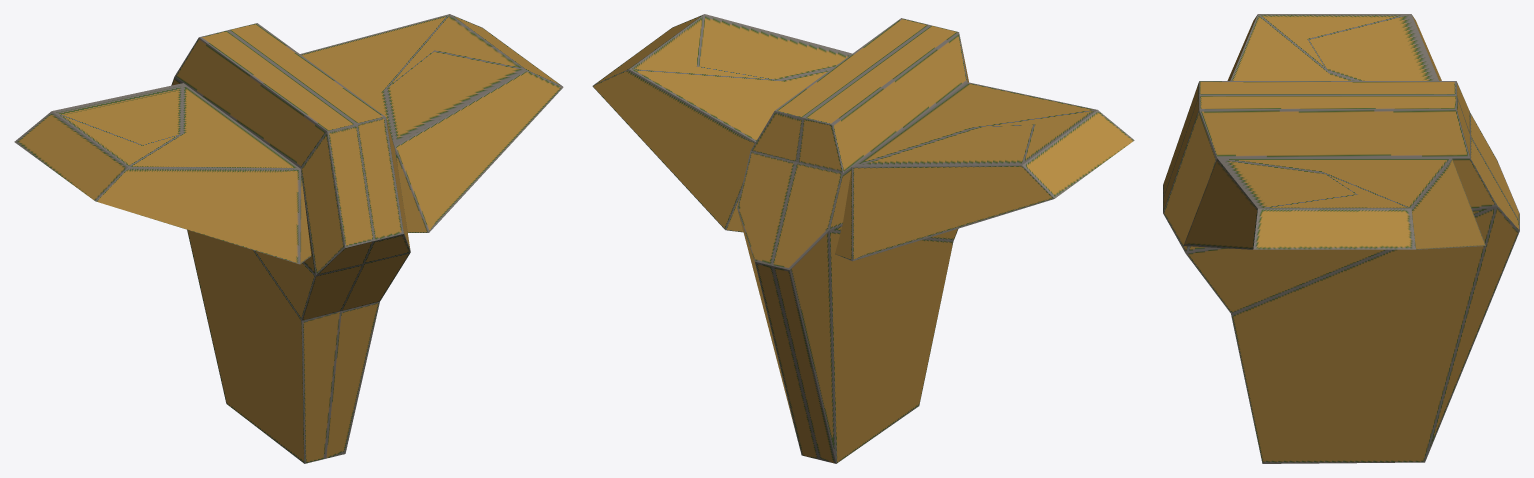
File: BodyUnder.fbx
3 views of the same model, side by side, from view 1: azimuth 30°, elevation 25°; view 2: azimuth 150°, elevation 25°; view 3: azimuth 270°, elevation 25° (orthographic).
Parts seen in each view (by area): view 1: Shape_IndexedFaceSet.005; view 2: Shape_IndexedFaceSet.005; view 3: Shape_IndexedFaceSet.005.
Part boxes in pixels (x1,y1,x2,y2): Shape_IndexedFaceSet.005: (14,14,563,463); Shape_IndexedFaceSet.005: (592,14,1134,463); Shape_IndexedFaceSet.005: (1163,14,1519,463).
Bounding box in the file's own units: 0.4574 × 0.3339 × 0.3011.
Materials: 1 (1 with a texture image).
